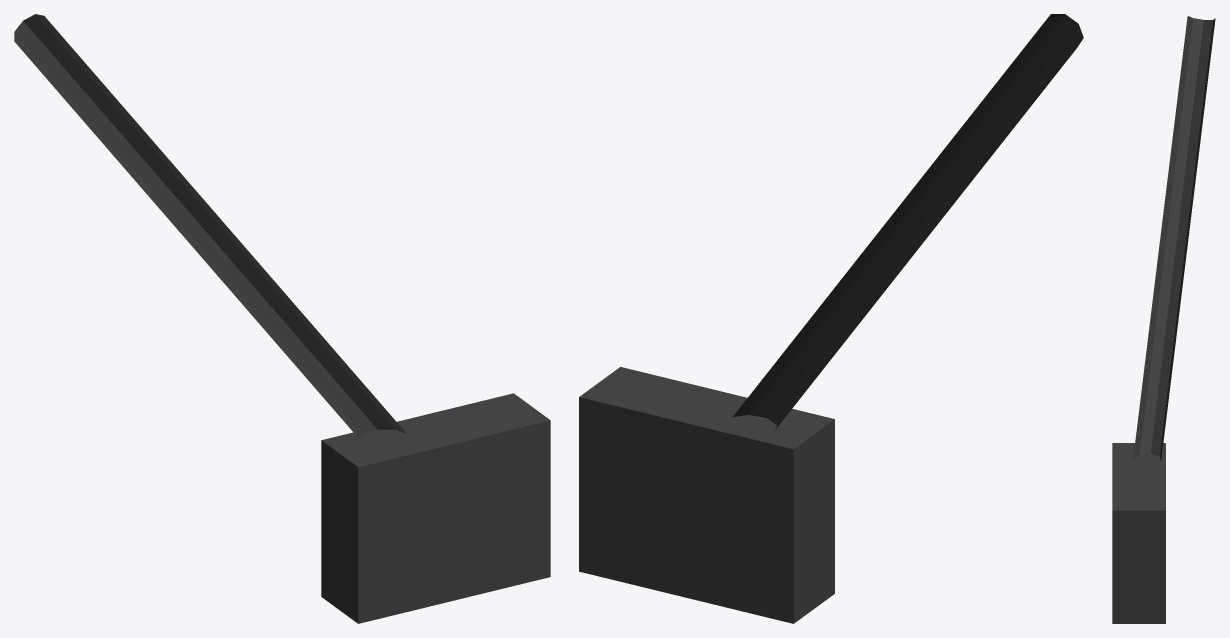
The model's file is bag_crossbody.glb.
The picture shows the model from 3 angles, left to right: view 1: azimuth 30°, elevation 25°; view 2: azimuth 150°, elevation 25°; view 3: azimuth 270°, elevation 25°; orthographic projection. The views are drawn at different scales.
Visible parts, largest first — view 1: geometry_0; view 2: geometry_0; view 3: geometry_0.
Part boxes in pixels (box(x1,y1,x2,y2)): geometry_0: box(14, 14, 550, 623); geometry_0: box(579, 14, 1083, 623); geometry_0: box(1112, 16, 1215, 623).
Size of the model in its own units: 0.4426 by 0.5595 by 0.1157.
Materials: 1 (1 with a texture image).
